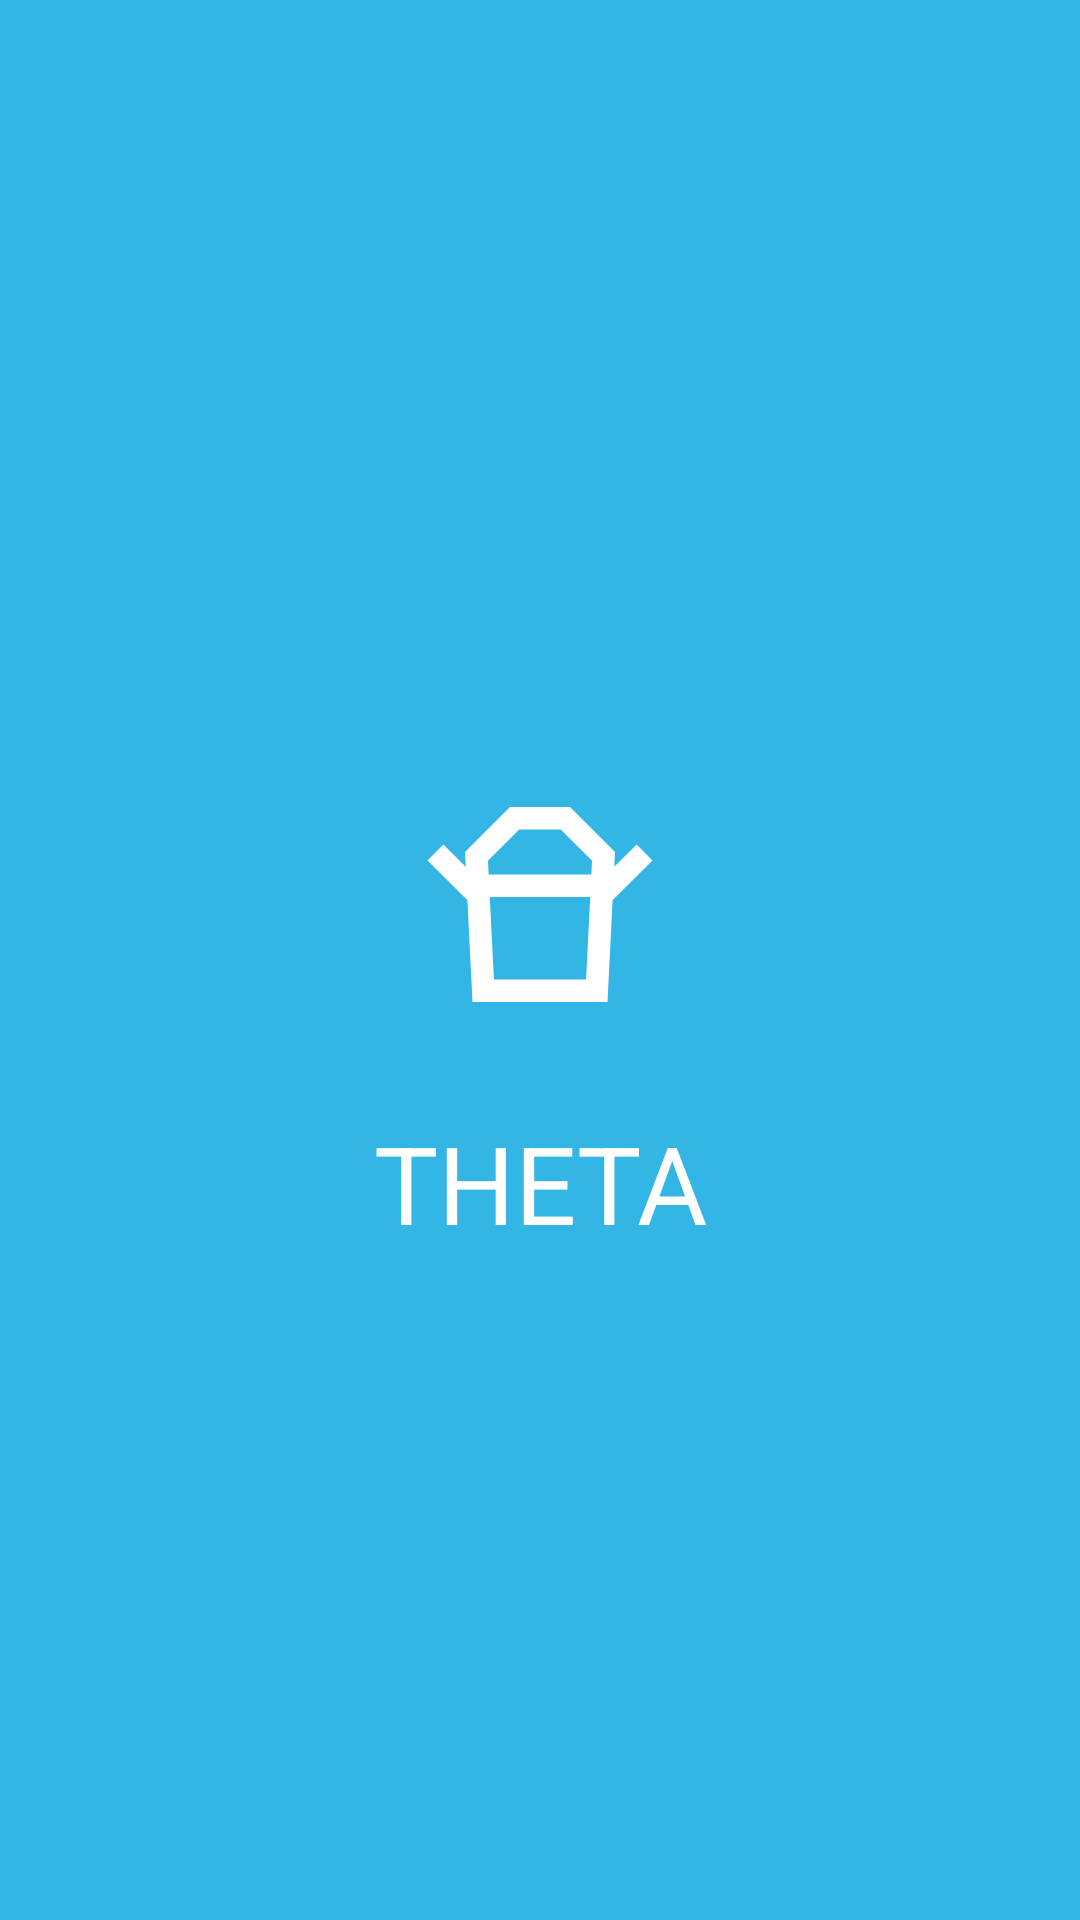

Icons on this 1080 x 1920 Android screen, each with the point to tap as [x,y]:
takeout dining: [540,904]
